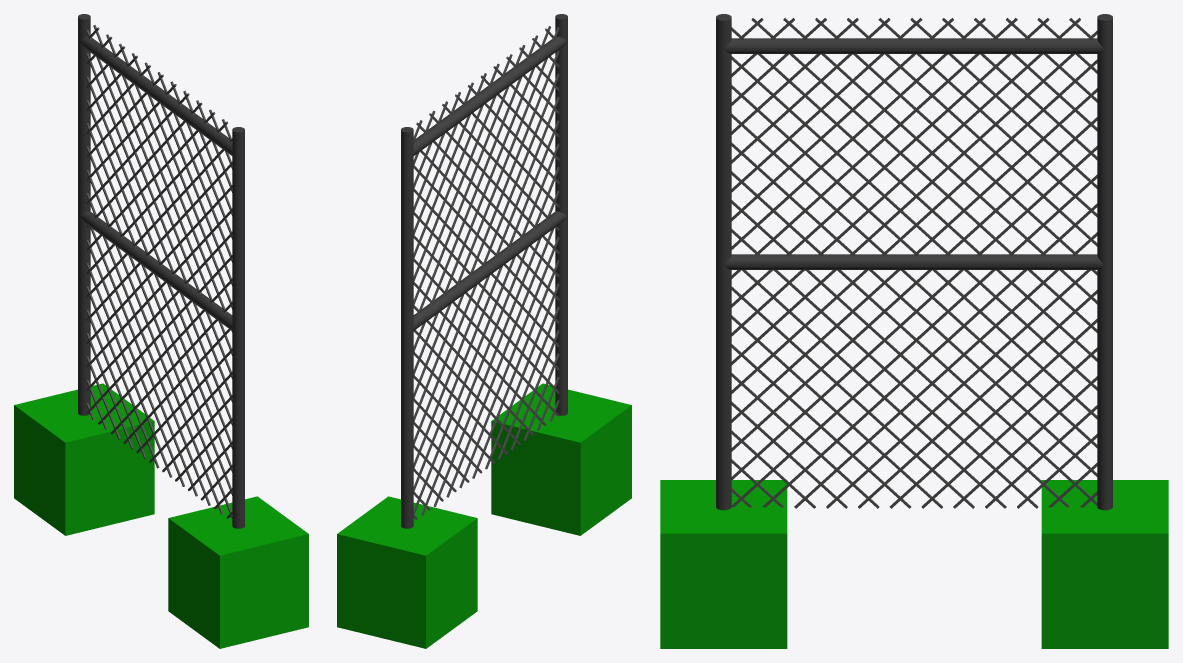
The model's file is FenceMeshMed.obj.
3 renders of one model, left to right at view 1: azimuth 30°, elevation 25°; view 2: azimuth 150°, elevation 25°; view 3: azimuth 270°, elevation 25°, orthographic. The views are drawn at different scales.
Parts seen in each view (by area): view 1: Cube_Cube_Material.002, Cube_Cube_Material.001, Cube_Cube_Material.003; view 2: Cube_Cube_Material.002, Cube_Cube_Material.001, Cube_Cube_Material.003; view 3: Cube_Cube_Material.001, Cube_Cube_Material.002, Cube_Cube_Material.003.
Boxes of the visible parts, x1,y1,x2,y2 form: Cube_Cube_Material.002: [14, 383, 308, 648]; Cube_Cube_Material.001: [86, 25, 232, 518]; Cube_Cube_Material.003: [78, 14, 244, 528]; Cube_Cube_Material.002: [337, 383, 631, 648]; Cube_Cube_Material.001: [413, 26, 559, 519]; Cube_Cube_Material.003: [401, 14, 567, 528]; Cube_Cube_Material.001: [731, 18, 1097, 508]; Cube_Cube_Material.002: [660, 480, 1168, 648]; Cube_Cube_Material.003: [716, 14, 1112, 510].
Size of the model in its own units: 2 by 10.5 by 8.
